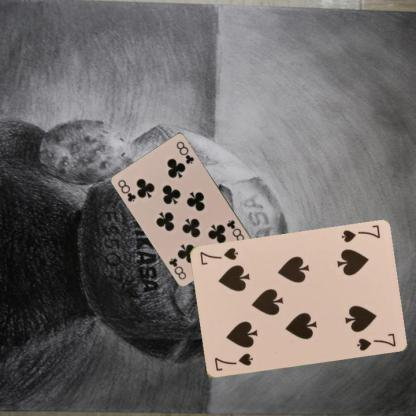7s: (338, 222, 382, 244), (212, 350, 254, 372)
8c: (115, 177, 138, 203), (224, 217, 246, 243)
